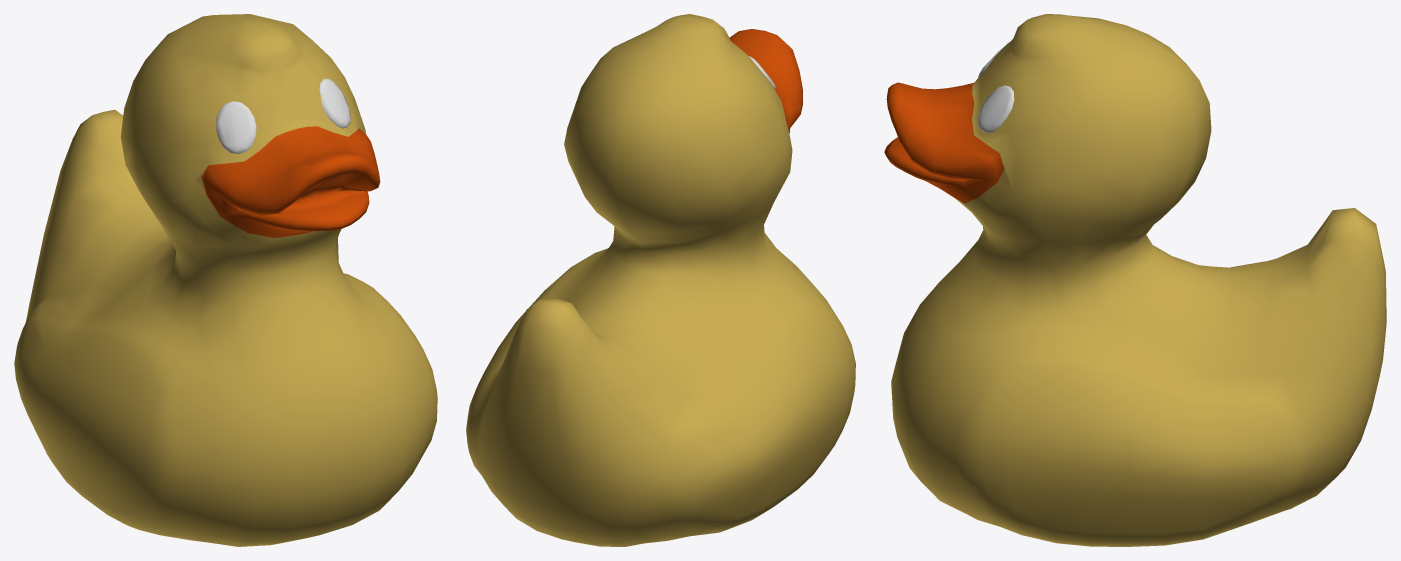
File: duck.gltf.glb
3 renders of one model, left to right at view 1: azimuth 30°, elevation 25°; view 2: azimuth 150°, elevation 25°; view 3: azimuth 270°, elevation 25°, orthographic. The views are drawn at different scales.
Parts seen in each view (by area): view 1: RubberDuck; view 2: RubberDuck; view 3: RubberDuck.
Boxes of the visible parts, x1,y1,x2,y2 form: RubberDuck: (14,14,437,546); RubberDuck: (466,14,855,546); RubberDuck: (884,14,1386,546).
Bounding box in the file's own units: 0.678 × 0.9733 × 0.9246.
